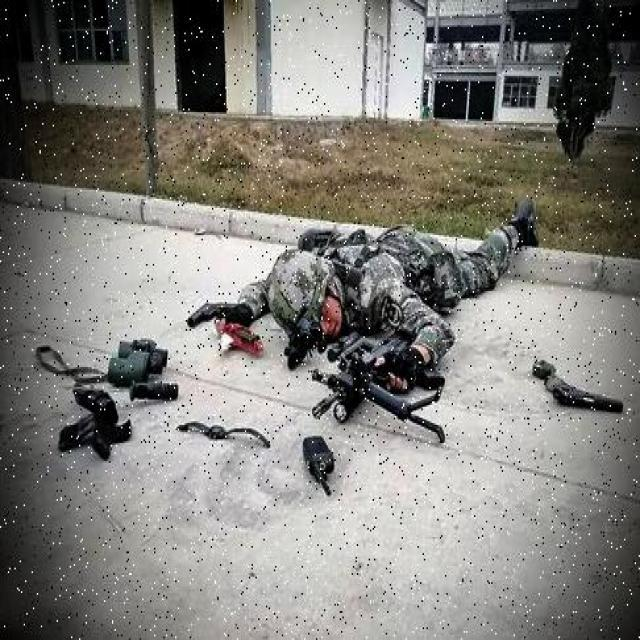fall: (262, 205, 534, 342)
